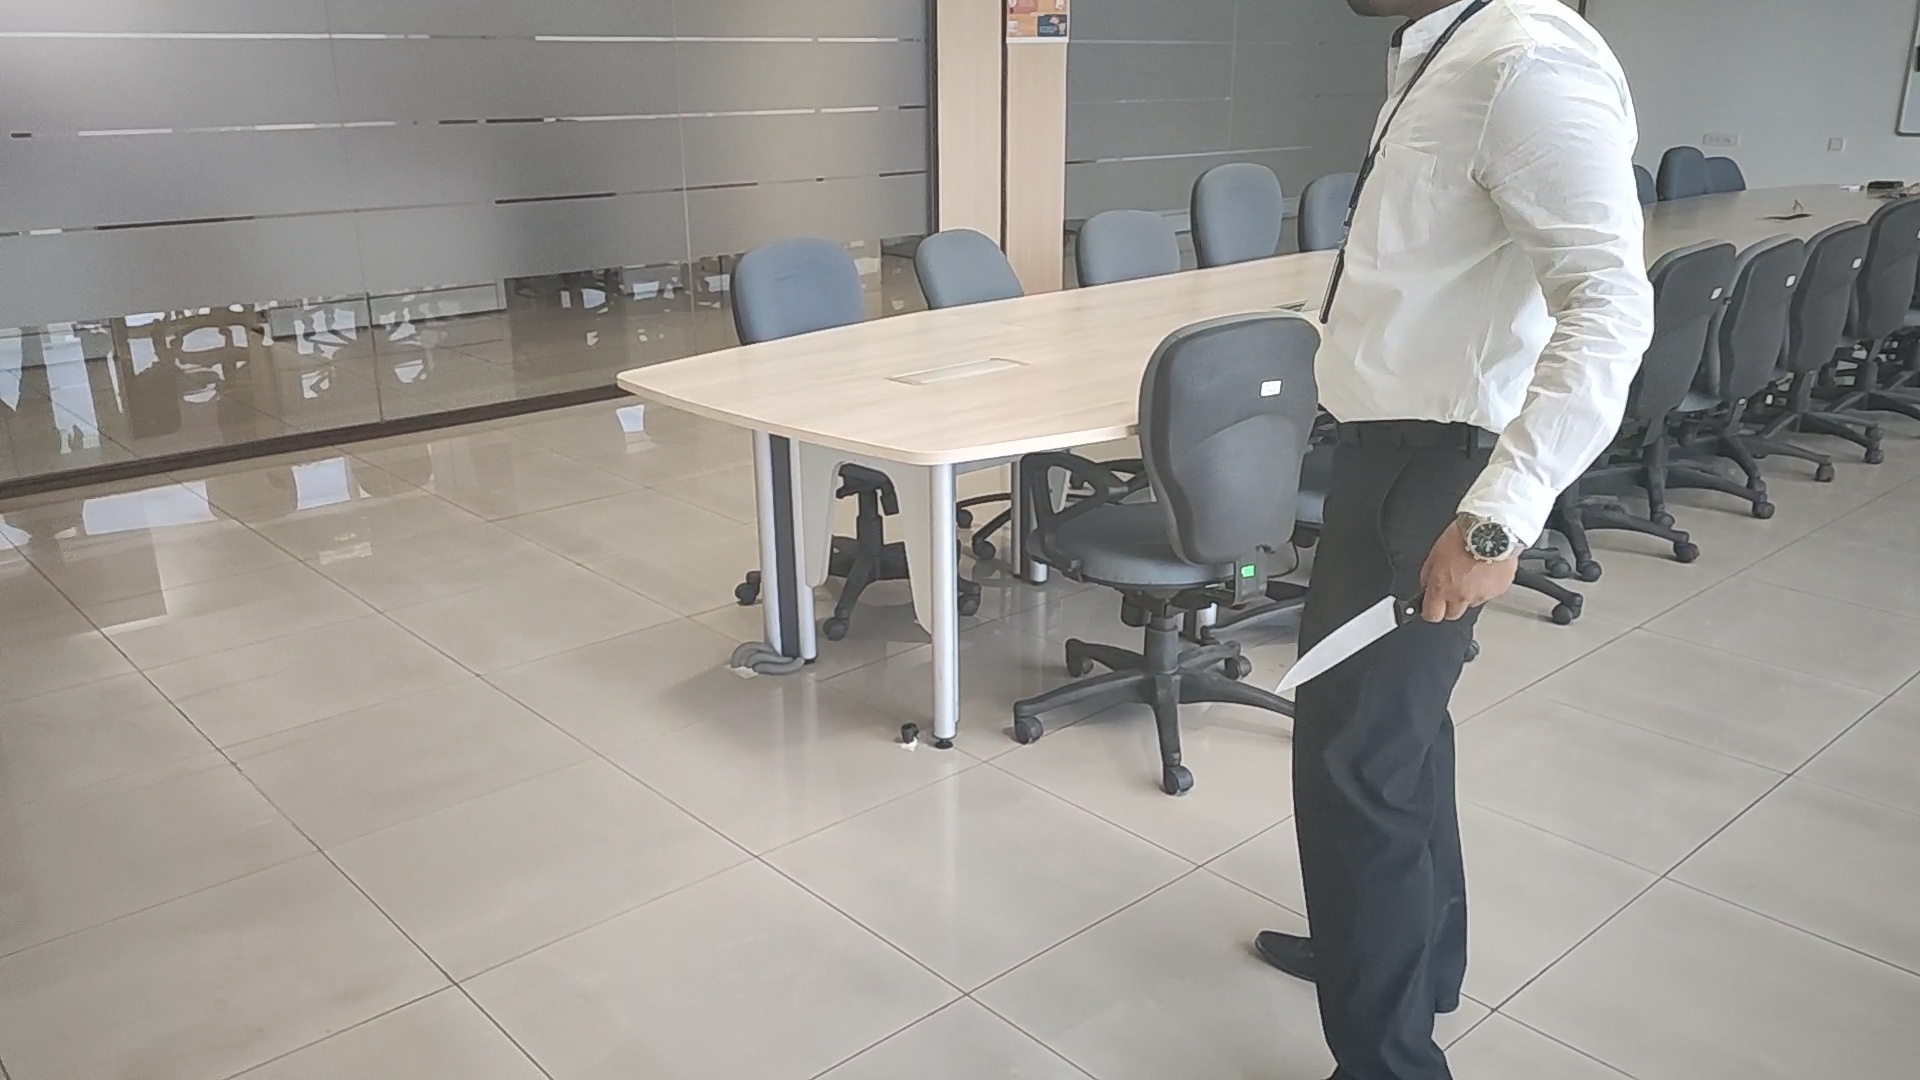knife: (1270, 589, 1424, 692)
